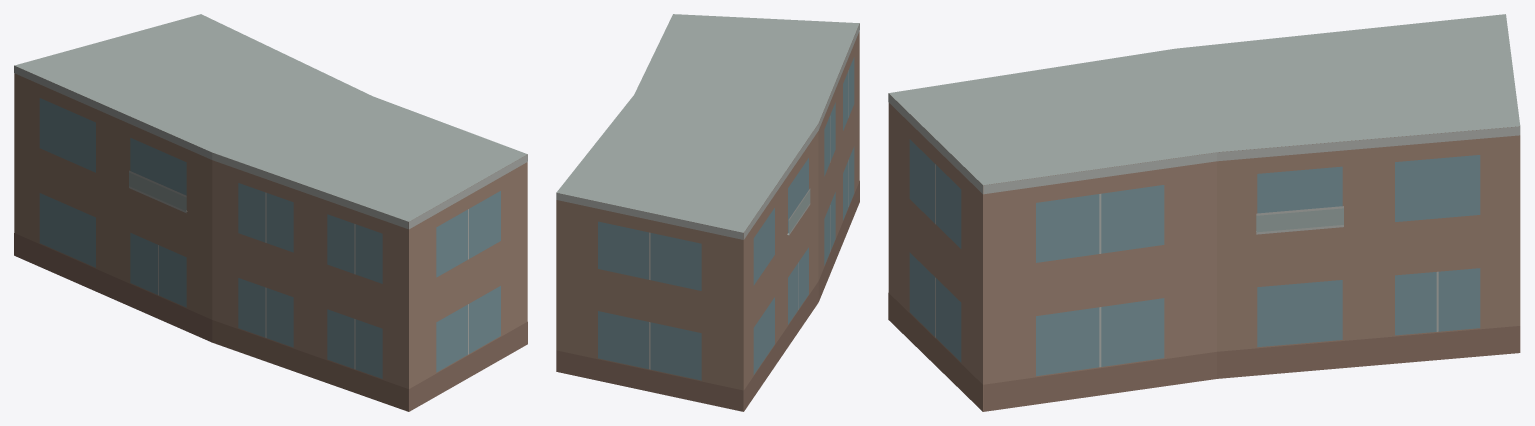
File: survey-upis-32463677.glb
3 renders of one model, left to right at view 1: azimuth 30°, elevation 25°; view 2: azimuth 150°, elevation 25°; view 3: azimuth 270°, elevation 25°, orthographic. The views are drawn at different scales.
Visible parts, largest first — view 1: survey-upis-32463677.tmp; view 2: survey-upis-32463677.tmp; view 3: survey-upis-32463677.tmp.
Boxes of the visible parts, x1,y1,x2,y2 form: survey-upis-32463677.tmp: (14, 14, 527, 411); survey-upis-32463677.tmp: (556, 14, 859, 411); survey-upis-32463677.tmp: (888, 14, 1520, 411).
Size of the model in its own units: 9.9 by 6.1 by 15.43.
